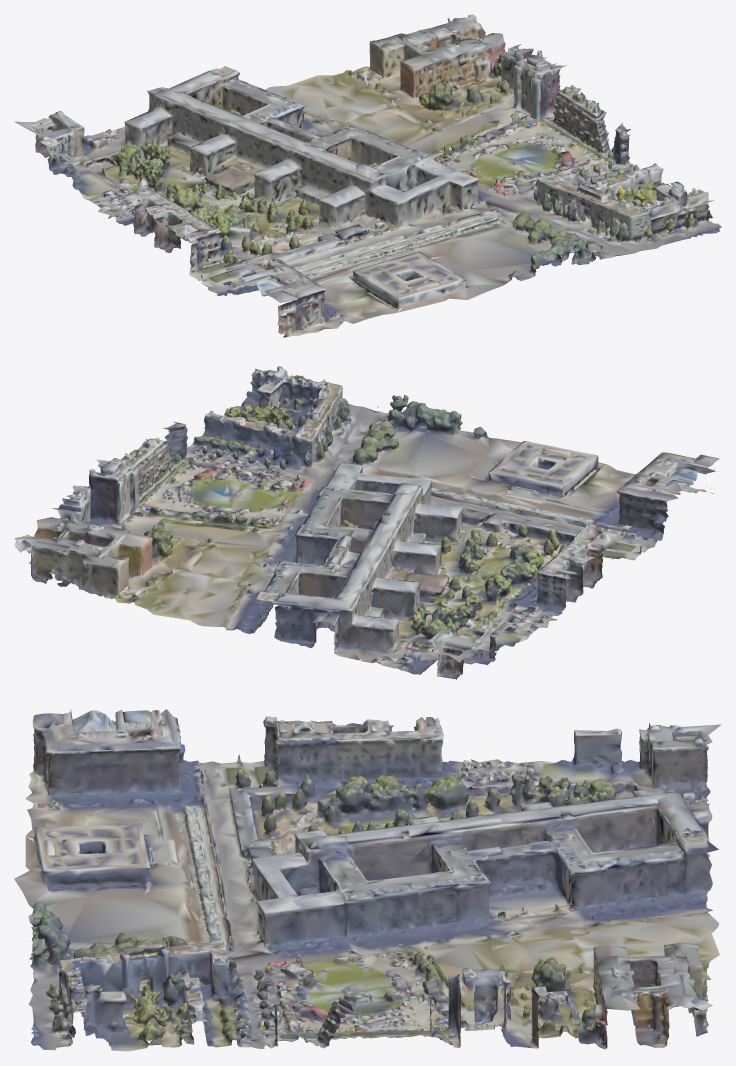
File: tile-3901_58185.glb
3 renders of one model, top to bottom at view 1: azimuth 30°, elevation 25°; view 2: azimuth 150°, elevation 25°; view 3: azimuth 270°, elevation 25°, orthographic. The views are drawn at different scales.
Visible parts, largest first — view 1: world; view 2: world; view 3: world.
Boxes of the visible parts, bbox=[...] form: world: bbox=[14, 14, 721, 337]; world: bbox=[14, 366, 719, 679]; world: bbox=[14, 709, 721, 1051].
Bounding box in the file's own units: 385 × 43.85 × 379.
